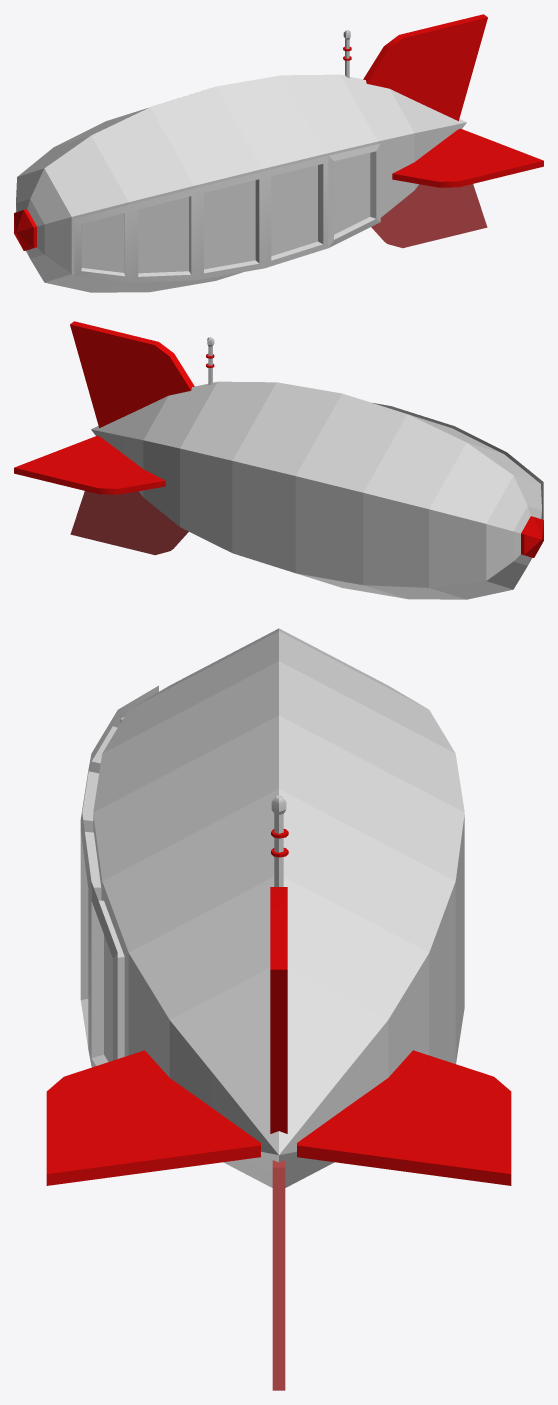
Rendered from SpaceShipNew_01.fbx.
3 views of the same model, one above another, from view 1: azimuth 30°, elevation 25°; view 2: azimuth 150°, elevation 25°; view 3: azimuth 270°, elevation 25° (orthographic). The views are drawn at different scales.
Visible parts, largest first — view 1: polySurface40; view 2: polySurface40; view 3: polySurface40.
Boxes of the visible parts, left/top/right/bottom form: polySurface40: left=14, top=14, right=543, bottom=292; polySurface40: left=14, top=321, right=543, bottom=599; polySurface40: left=46, top=628, right=511, bottom=1390.
Bounding box in the file's own units: 2.47 × 1.15 × 1.06.
